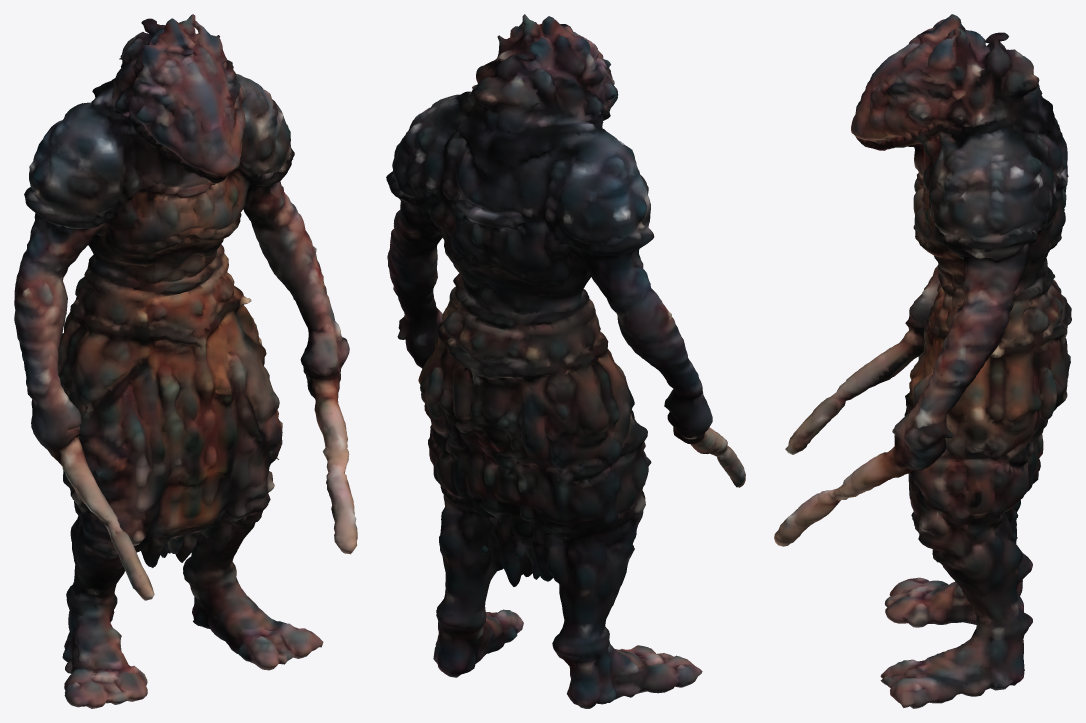
File: lizard-warrior-triposr.glb
The picture shows the model from 3 angles, left to right: view 1: azimuth 30°, elevation 25°; view 2: azimuth 150°, elevation 25°; view 3: azimuth 270°, elevation 25°; orthographic projection. The views are drawn at different scales.
Visible parts, largest first — view 1: geometry_0; view 2: geometry_0; view 3: geometry_0.
Part boxes in pixels (bbox=[...]): geometry_0: bbox=[14, 14, 357, 708]; geometry_0: bbox=[386, 14, 745, 708]; geometry_0: bbox=[774, 14, 1071, 708].
Bounding box in the file's own units: 0.8926 × 1.8 × 0.7586.
